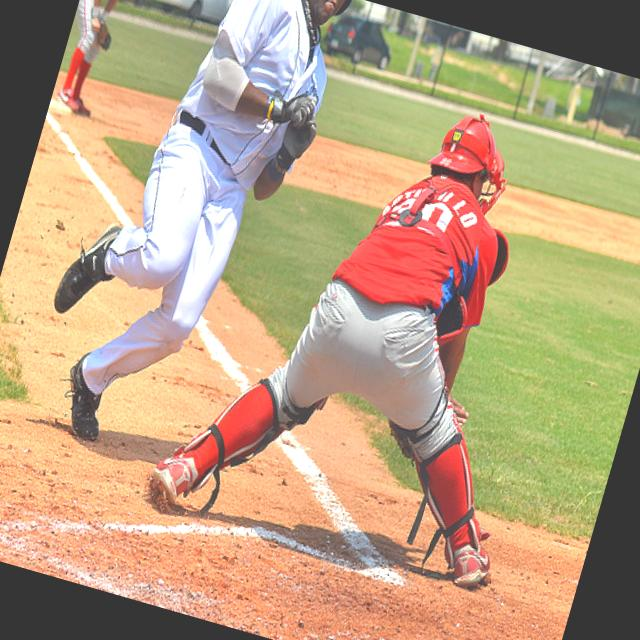Vehicle: (320, 10, 398, 71), (149, 0, 239, 33)
